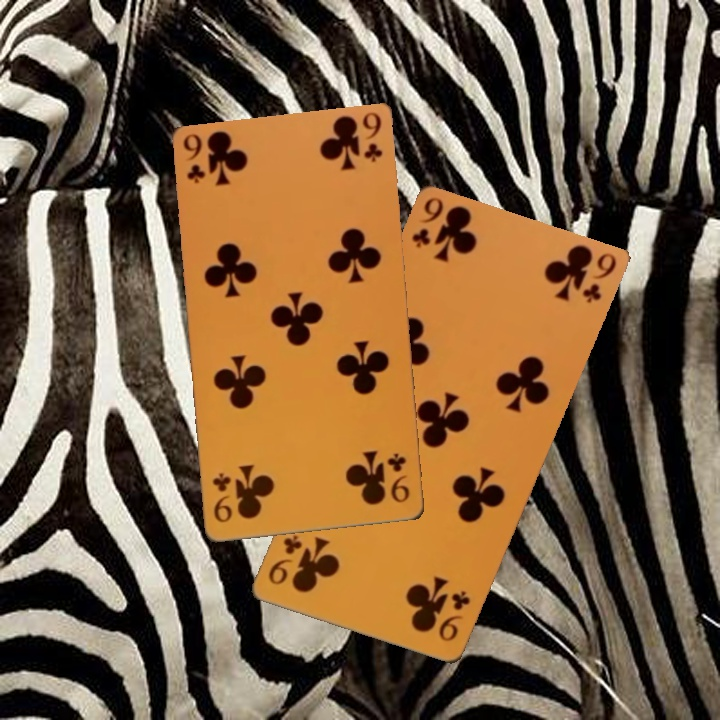9c: (431, 587, 477, 652), (573, 251, 619, 316), (386, 450, 413, 512), (209, 471, 236, 532), (359, 112, 386, 173), (181, 133, 208, 194)
